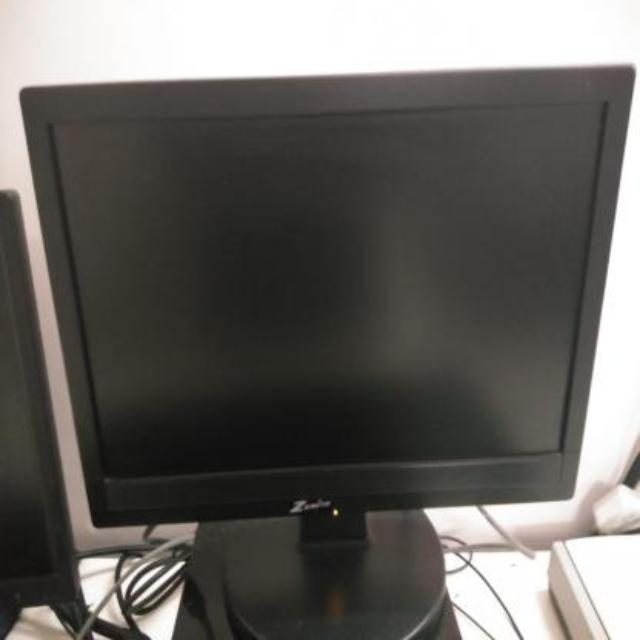Flat-Panel-Monitor: (20, 62, 640, 636)
